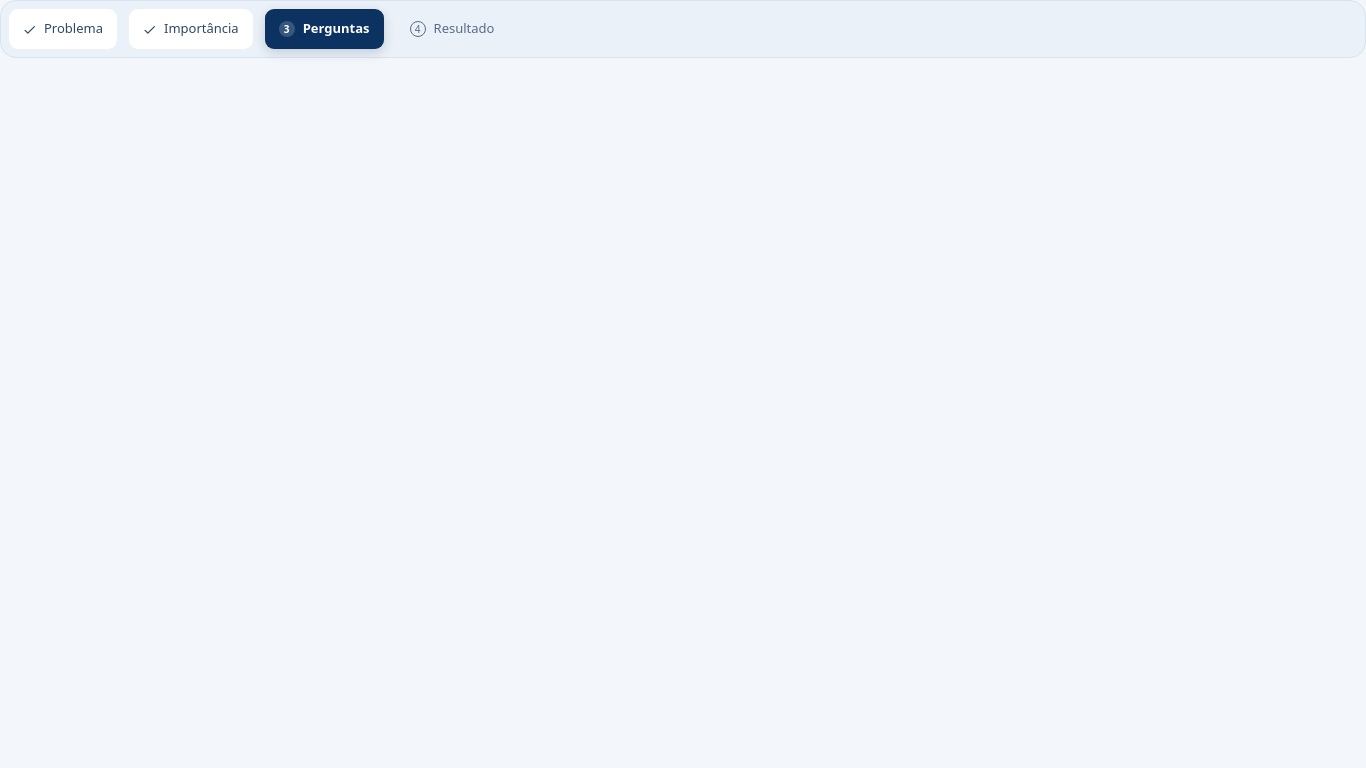
Scenario: barra de etapas › cancelar fecha o aviso sem navegar
Click the button "Importância" at (191, 29), box [129,9,253,49]
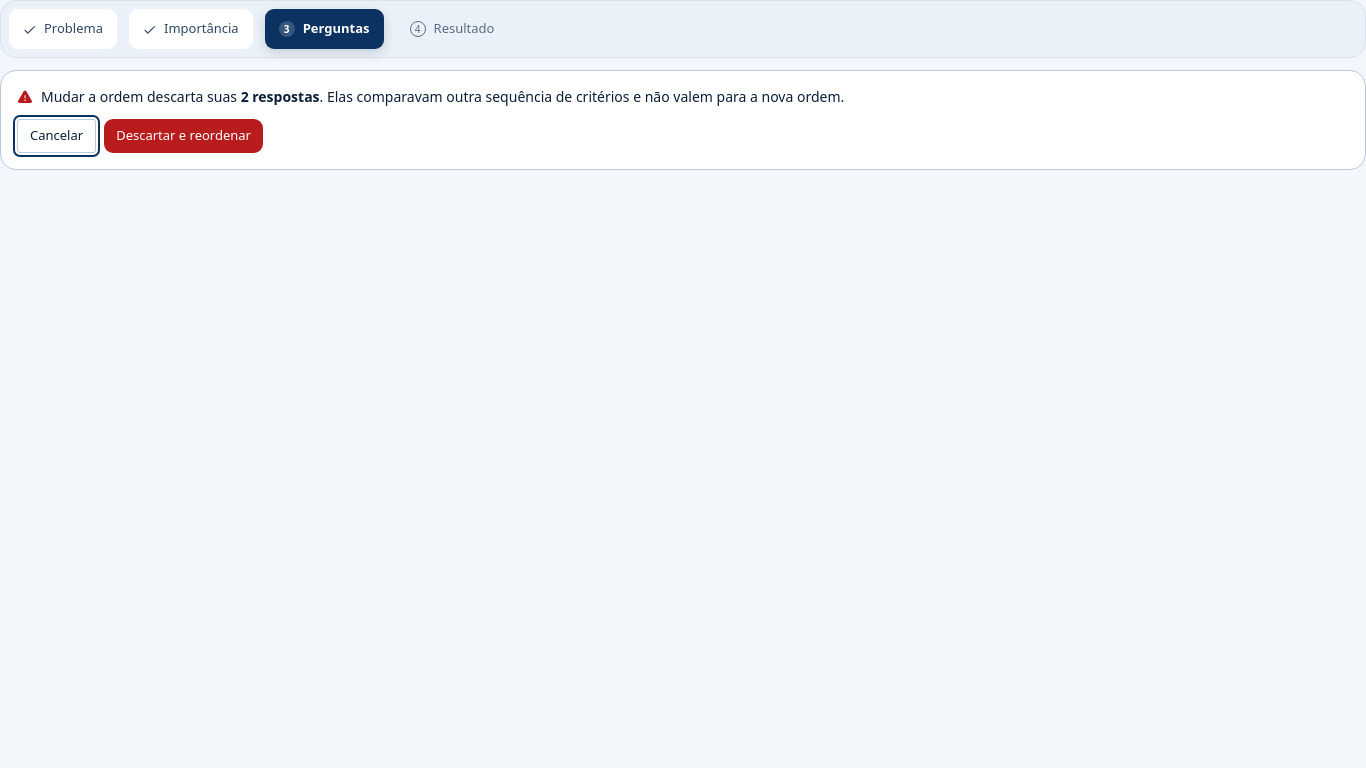
Click the button "Cancelar" at (57, 136), box [17,119,96,152]
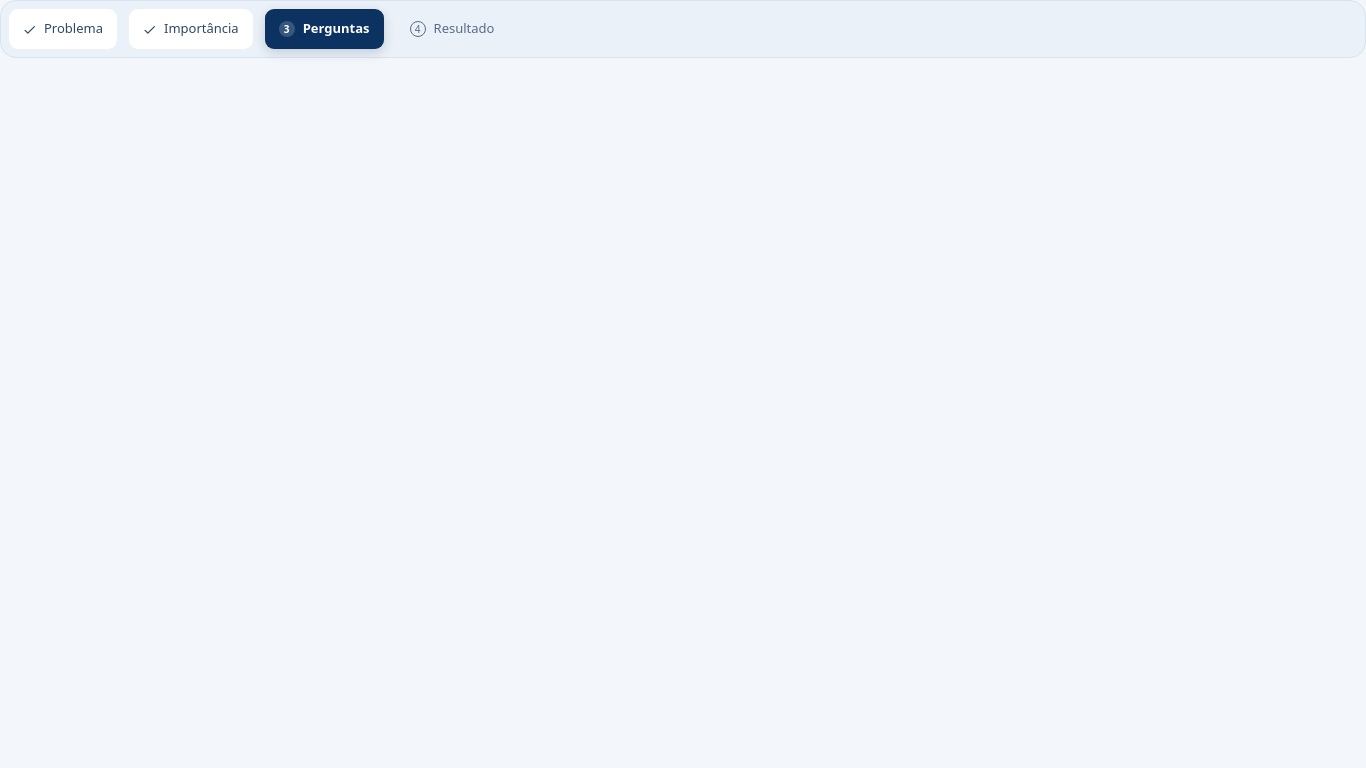
Expected: the dialog is gone
